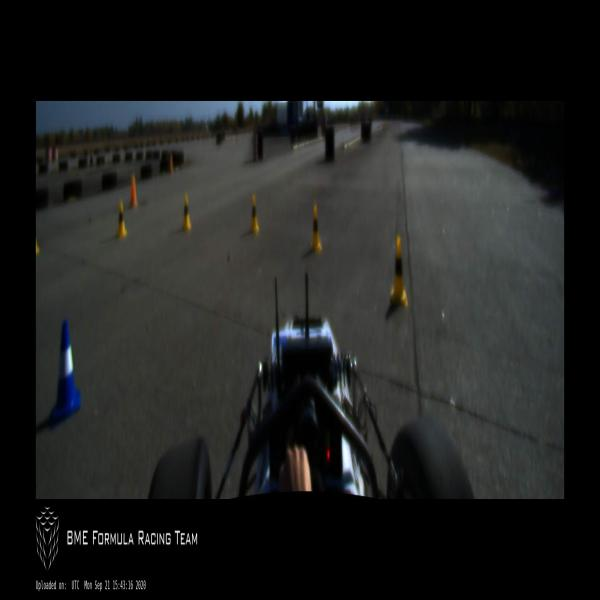blue_cone: (50, 320, 81, 427)
unknown_cone: (130, 173, 138, 208), (169, 152, 173, 175)
yellow_cone: (390, 236, 409, 308), (310, 204, 322, 254), (116, 200, 127, 239), (250, 193, 259, 235), (182, 195, 190, 232)
